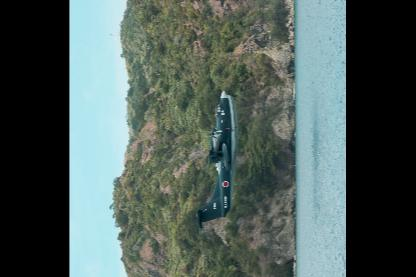Tu95: (196, 90, 238, 230)
